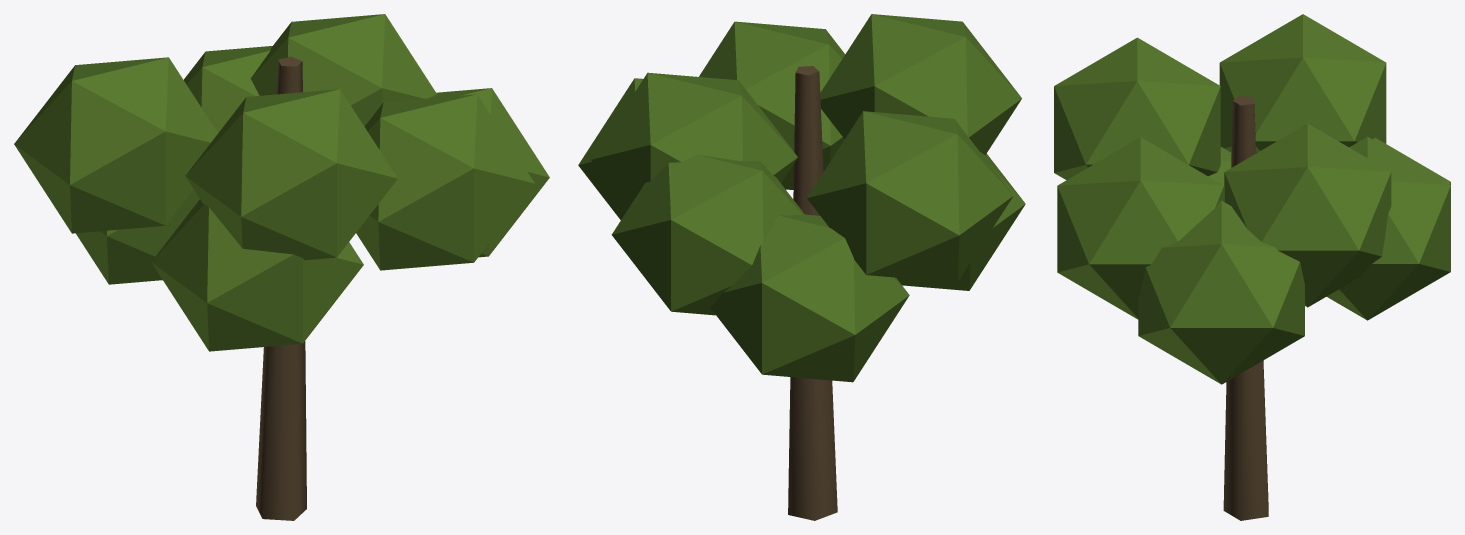
The picture shows the model from 3 angles, left to right: view 1: azimuth 30°, elevation 25°; view 2: azimuth 150°, elevation 25°; view 3: azimuth 270°, elevation 25°; orthographic projection. The views are drawn at different scales.
Visible parts, largest first — view 1: oak-leaf; view 2: oak-leaf; view 3: oak-leaf.
Boxes of the visible parts, bbox=[...] form: oak-leaf: bbox=[14, 14, 549, 520]; oak-leaf: bbox=[578, 14, 1025, 520]; oak-leaf: bbox=[1054, 14, 1450, 520].
Bounding box in the file's own units: 7.83 × 8.01 × 6.71.
